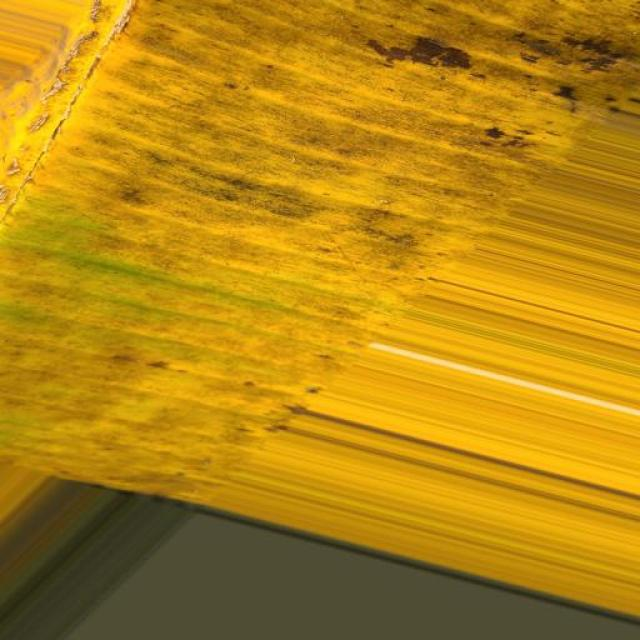Cordana: (0, 0, 640, 587)
